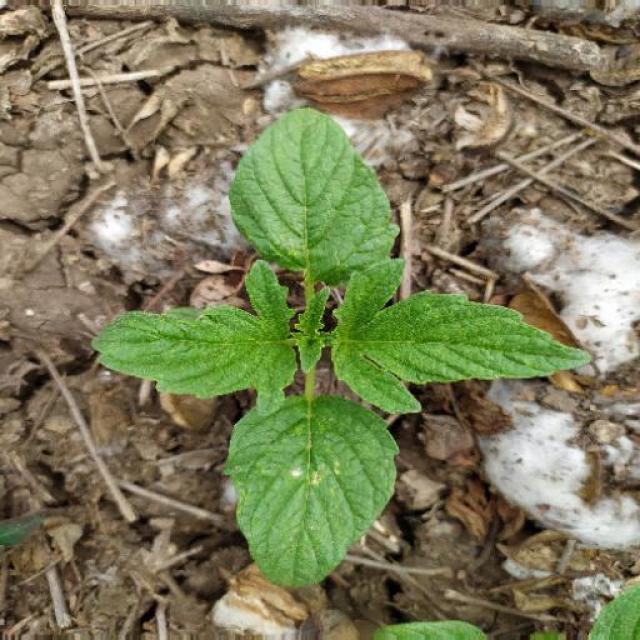weed: (89, 89, 604, 599)
